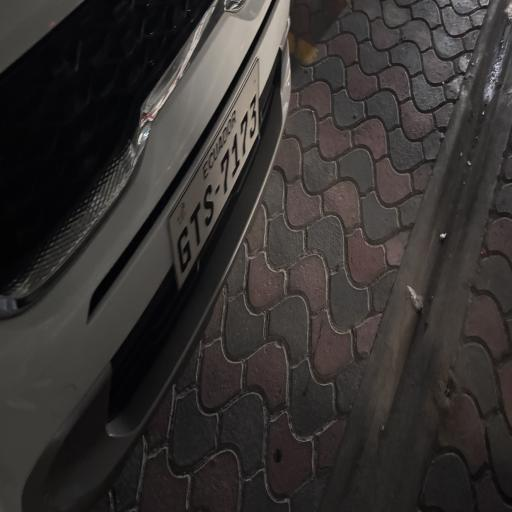license_plate: (169, 60, 259, 288)
